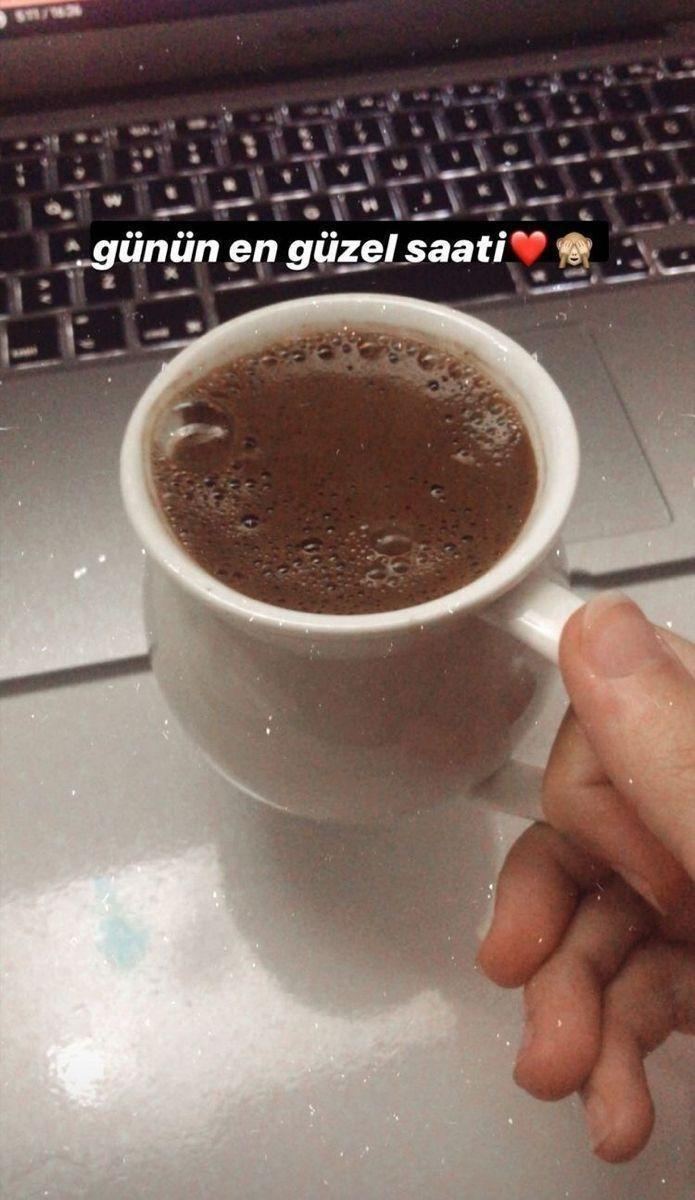cup-handle: (115, 289, 683, 829)
